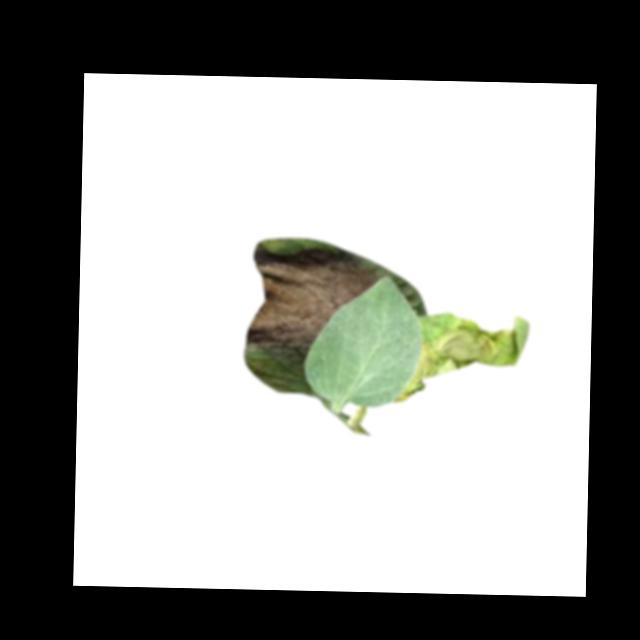Late_blight: (241, 246, 377, 355), (394, 313, 530, 407)
